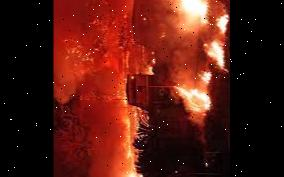fire: (168, 0, 230, 117), (109, 106, 153, 177)
